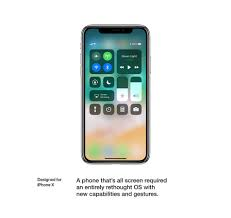iphone10: (79, 21, 150, 164)
